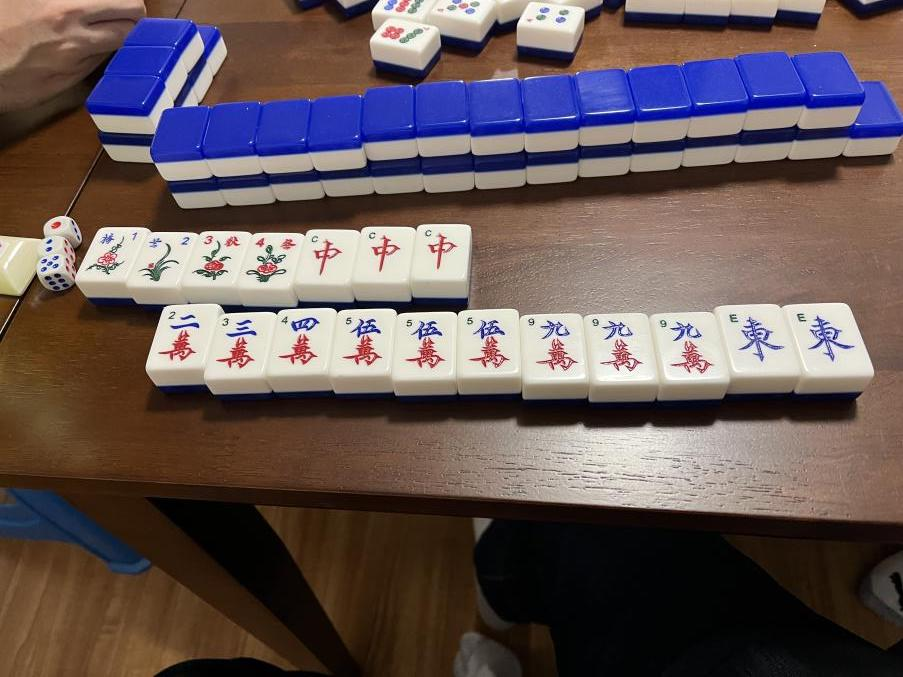character-five: (332, 309, 394, 374), (459, 310, 518, 376), (395, 313, 454, 379)
character-four: (266, 309, 333, 374)
character-nine: (653, 314, 728, 380), (588, 315, 656, 381), (523, 315, 587, 382)
character-three: (204, 313, 274, 378)
character-two: (146, 305, 218, 369)
flower-blue_one: (76, 228, 148, 282)
flower-blue_two: (131, 233, 199, 286)
flower-red_four: (238, 234, 302, 289)
flower-red_three: (183, 233, 250, 286)
honor-east_wind: (788, 305, 872, 373), (720, 306, 798, 374)
honor-red_dragon: (295, 230, 360, 284), (353, 227, 414, 281), (412, 225, 470, 280)
